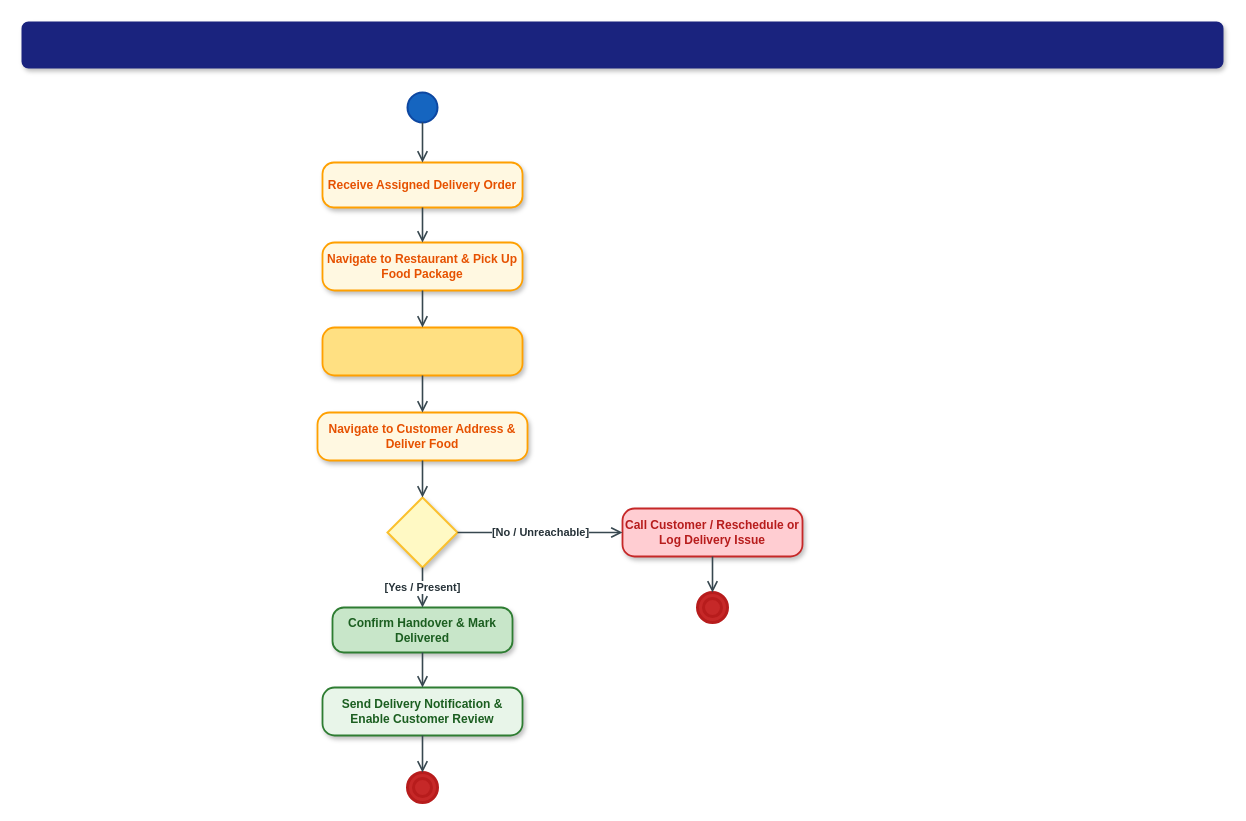
Some shapes in this 1246 by 821 pixel diagram are drawn without their labels. The shapes that lost their labels are listed below. From the top down, each one's centre as x and y in pixels, then its label:
At (623,46): "ONLINE FOOD ORDERING SYSTEM — ORDER DELIVERY ACTIVITY DIAGRAM".
At (423,352): "Update Status: Picked Up (Out for Delivery)".
At (423,533): "Customer Available?".
